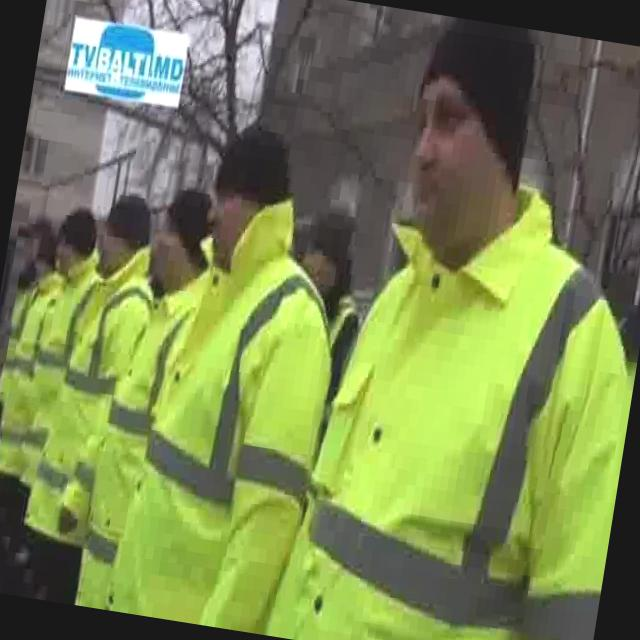vest: (265, 152, 640, 640), (100, 176, 360, 640), (43, 236, 216, 618), (18, 228, 166, 555), (8, 239, 98, 486), (0, 265, 69, 484)
